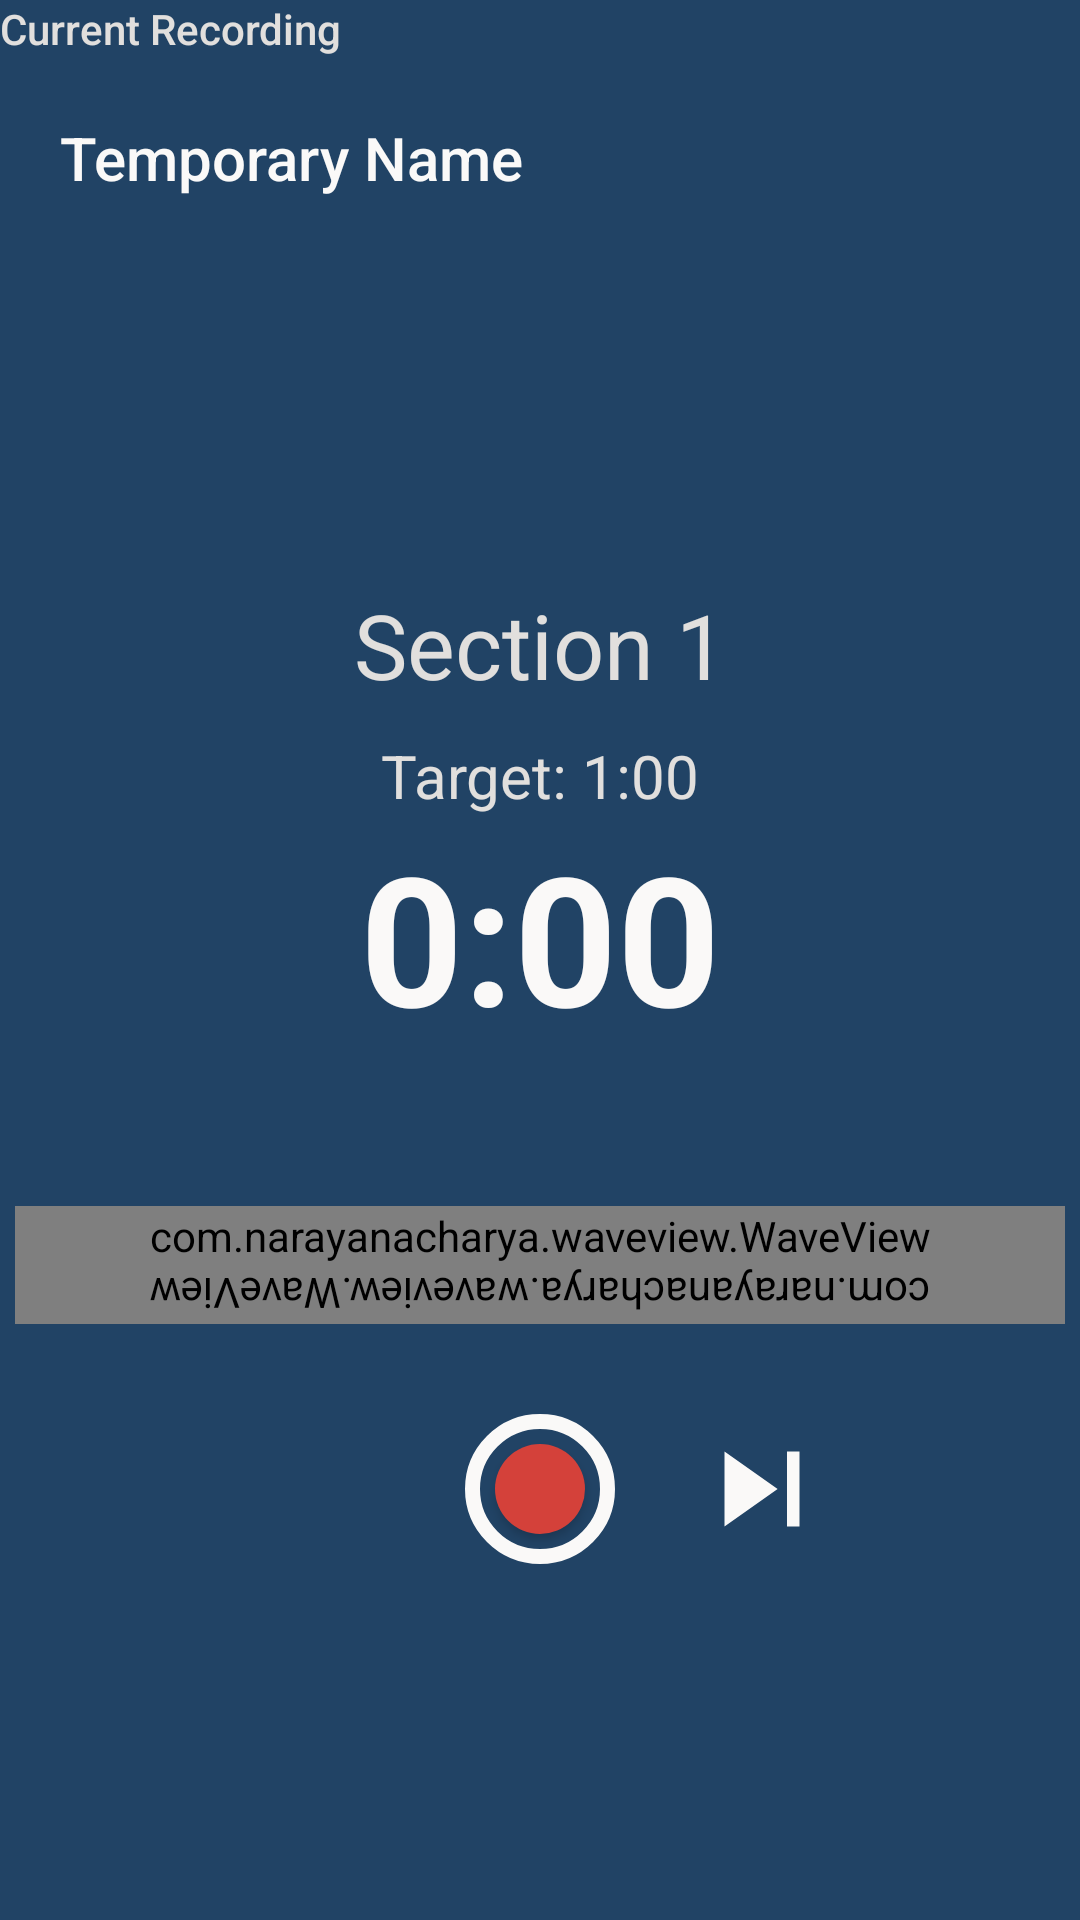

Icon click points for this 1080w x 1920h phone screenshot, format (x,y):
skip next: (762,1489)
